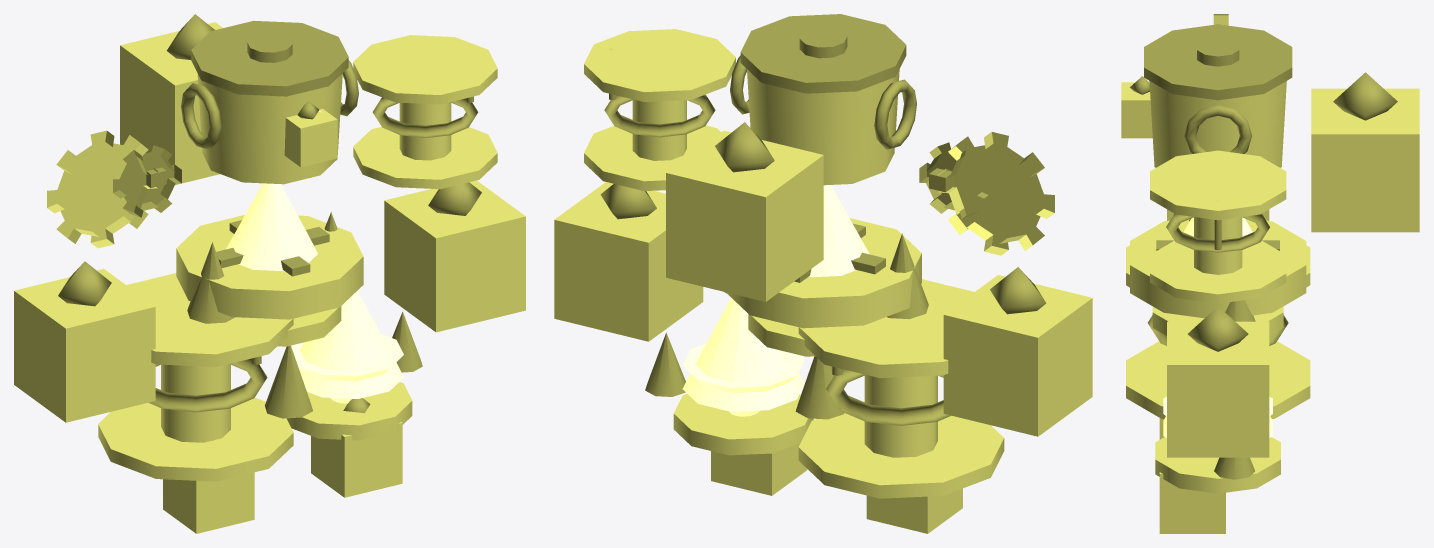
File: golem_053.glb
3 renders of one model, left to right at view 1: azimuth 30°, elevation 25°; view 2: azimuth 150°, elevation 25°; view 3: azimuth 270°, elevation 25°, orthographic. The views are drawn at different scales.
Visible parts, largest first — view 1: Body, Detail, Glow; view 2: Body, Detail, Glow; view 3: Body, Detail, Glow.
Part boxes in pixels (box(x1,y1,x2,y2)): Body: box(14, 22, 525, 533); Detail: box(58, 14, 481, 440); Glow: box(226, 110, 403, 403); Body: box(554, 29, 1092, 533); Detail: box(600, 14, 1046, 425); Glow: box(682, 185, 869, 416); Body: box(1121, 14, 1419, 533); Detail: box(1130, 24, 1397, 479); Glow: box(1163, 217, 1272, 437).
Size of the model in its own units: 1.43 by 1.32 by 0.8149.
